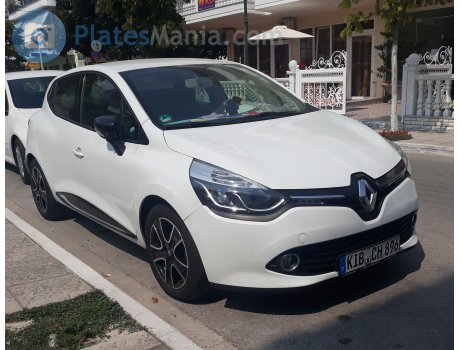License Plates: (348, 234, 399, 271)
